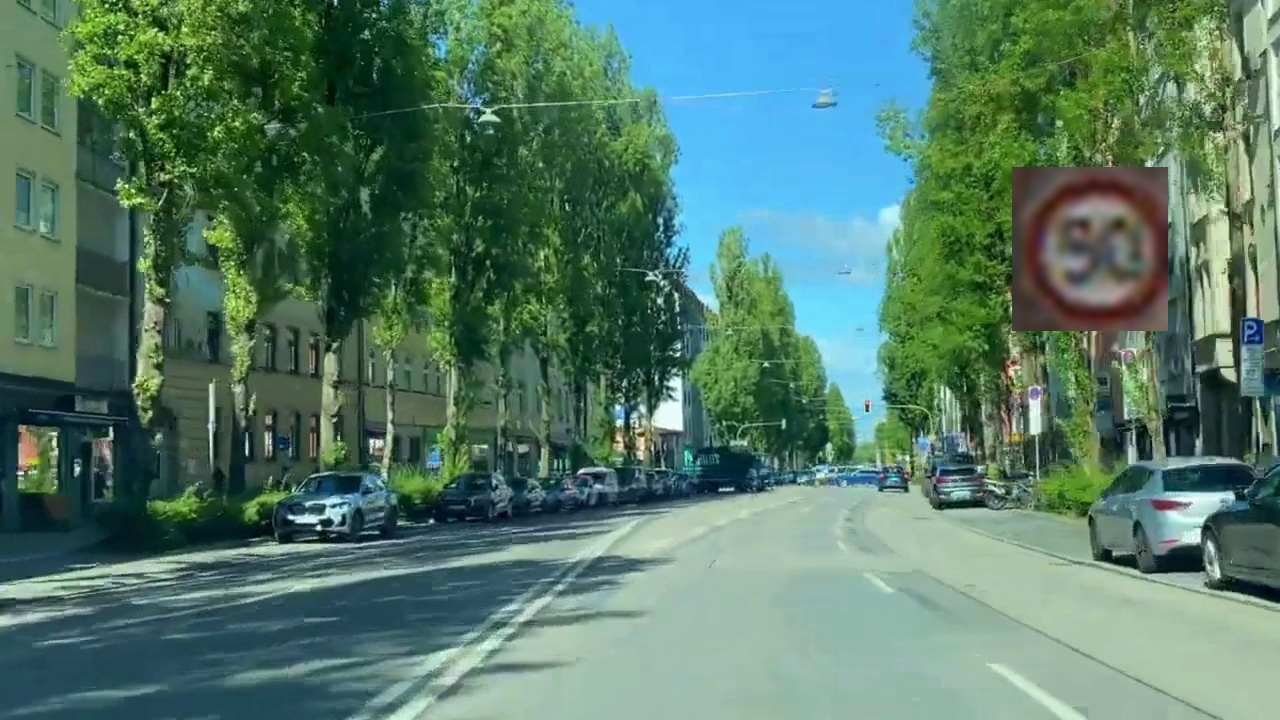Speed 50: (1012, 167, 1168, 331)
